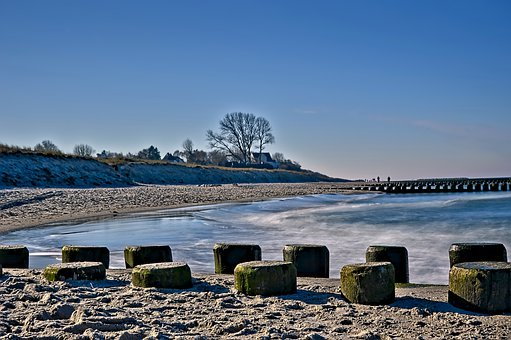sea: (11, 186, 511, 269)
sky: (1, 1, 510, 161)
tree: (216, 114, 278, 167)
